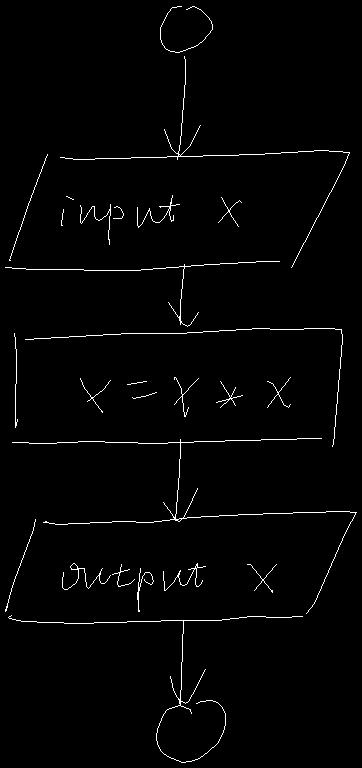arrow: (164, 56, 200, 159), (170, 620, 205, 705), (163, 439, 197, 521), (168, 264, 198, 326)
connection: (156, 700, 225, 762), (160, 6, 212, 52)
data: (5, 150, 349, 270), (5, 511, 356, 623)
process: (12, 328, 342, 446)
text: (62, 563, 276, 611), (61, 195, 241, 244), (80, 377, 290, 416)
